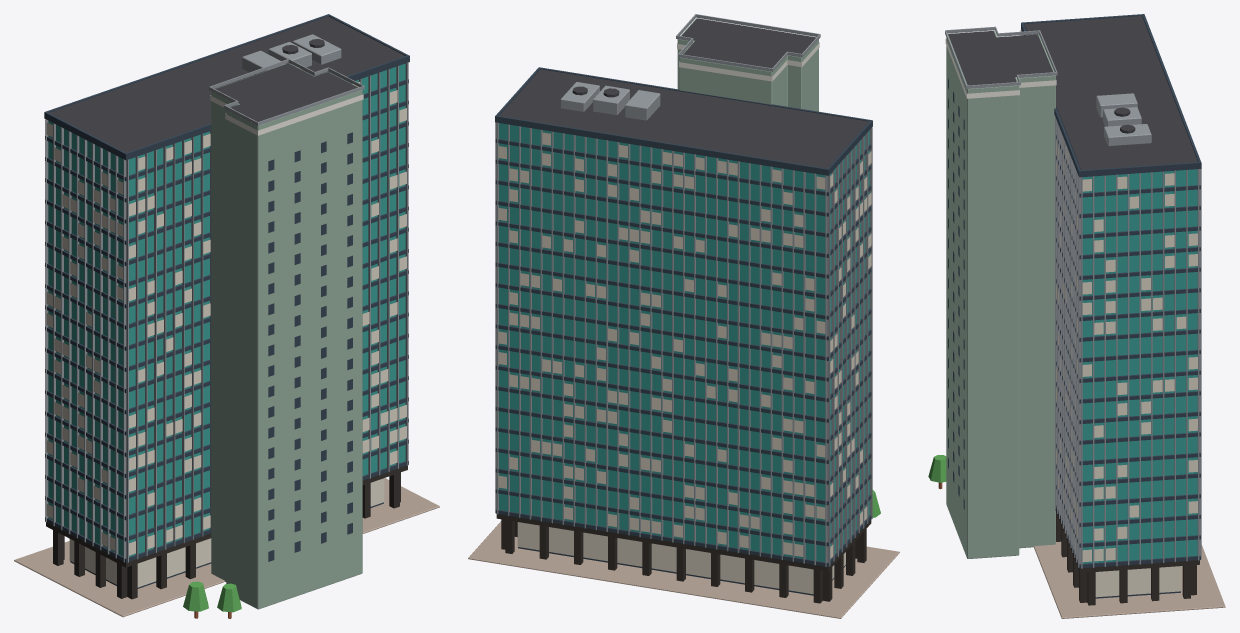
Rendered from 1-bush-street.glb.
3 renders of one model, left to right at view 1: azimuth 30°, elevation 25°; view 2: azimuth 150°, elevation 25°; view 3: azimuth 270°, elevation 25°, orthographic. The views are drawn at different scales.
Parts seen in each view (by area): view 1: 1-bush-street_body, 1-bush-street_night_glow; view 2: 1-bush-street_body, 1-bush-street_night_glow; view 3: 1-bush-street_body, 1-bush-street_night_glow.
Boxes of the visible parts, x1=… form: 1-bush-street_body: x1=14, y1=14, x2=439, y2=618; 1-bush-street_night_glow: x1=46, y1=82, x2=406, y2=587; 1-bush-street_body: x1=468, y1=14, x2=899, y2=618; 1-bush-street_night_glow: x1=498, y1=42, x2=871, y2=594; 1-bush-street_body: x1=928, y1=14, x2=1225, y2=618; 1-bush-street_night_glow: x1=945, y1=39, x2=1197, y2=597.
Size of the model in its own units: 75.51 by 93.9 by 53.36.
